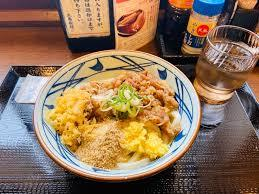niku: (28, 44, 209, 194)
